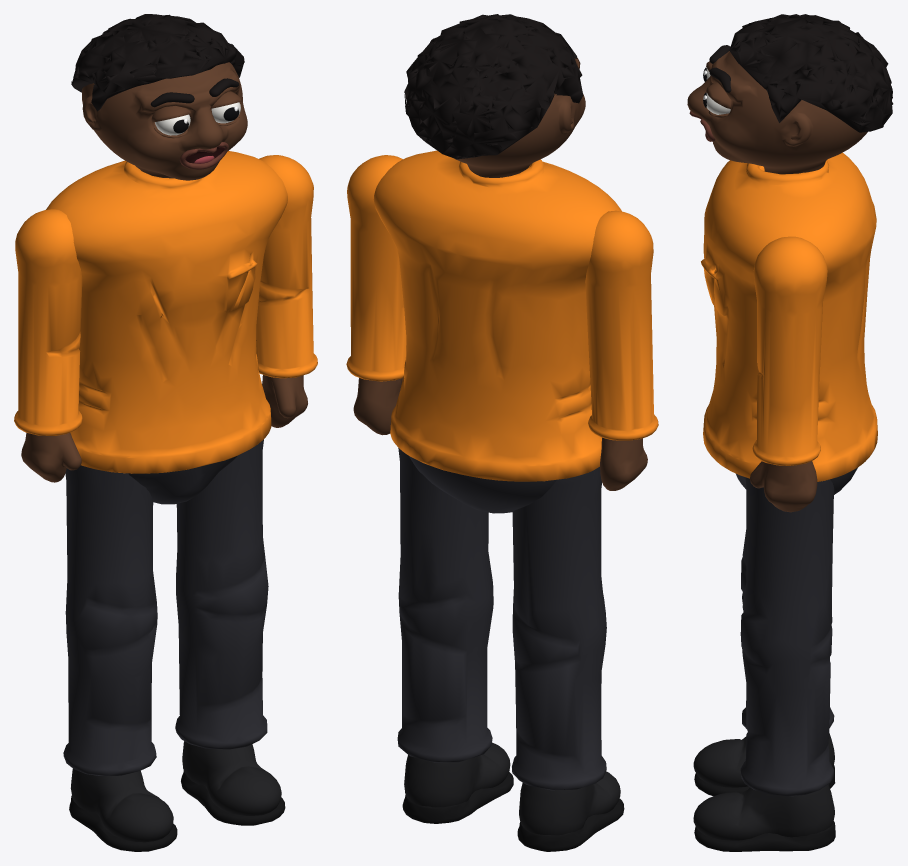
The model's file is liner_2.glb.
The picture shows the model from 3 angles, left to right: view 1: azimuth 30°, elevation 25°; view 2: azimuth 150°, elevation 25°; view 3: azimuth 270°, elevation 25°; orthographic projection. The views are drawn at different scales.
Visible parts, largest first — view 1: Body_Mesh, LegR_Mesh, LegL_Mesh, Head_Mesh, ArmR_Mesh, ArmL_Mesh, Mouth; view 2: Body_Mesh, LegR_Mesh, LegL_Mesh, Head_Mesh, ArmR_Mesh, ArmL_Mesh; view 3: Body_Mesh, LegL_Mesh, Head_Mesh, ArmL_Mesh, LegR_Mesh.
Boxes of the visible parts, x1=… form: Body_Mesh: x1=46, y1=151, x2=287, y2=504; LegR_Mesh: x1=63, y1=465, x2=177, y2=851; LegL_Mesh: x1=175, y1=439, x2=285, y2=825; Head_Mesh: x1=71, y1=14, x2=247, y2=180; ArmR_Mesh: x1=14, y1=209, x2=82, y2=482; ArmL_Mesh: x1=256, y1=155, x2=317, y2=427; Mouth: x1=179, y1=142, x2=228, y2=169; Body_Mesh: x1=373, y1=150, x2=621, y2=513; LegR_Mesh: x1=512, y1=467, x2=624, y2=851; LegL_Mesh: x1=397, y1=448, x2=513, y2=823; Head_Mesh: x1=404, y1=14, x2=585, y2=177; ArmR_Mesh: x1=585, y1=210, x2=658, y2=490; ArmL_Mesh: x1=346, y1=155, x2=406, y2=435; Body_Mesh: x1=701, y1=152, x2=877, y2=494; LegL_Mesh: x1=693, y1=477, x2=835, y2=851; Head_Mesh: x1=687, y1=14, x2=893, y2=174; ArmL_Mesh: x1=750, y1=236, x2=827, y2=512; LegR_Mesh: x1=693, y1=490, x2=835, y2=795.
Bounding box in the file's own units: 0.7469 × 1.88 × 0.4461.
